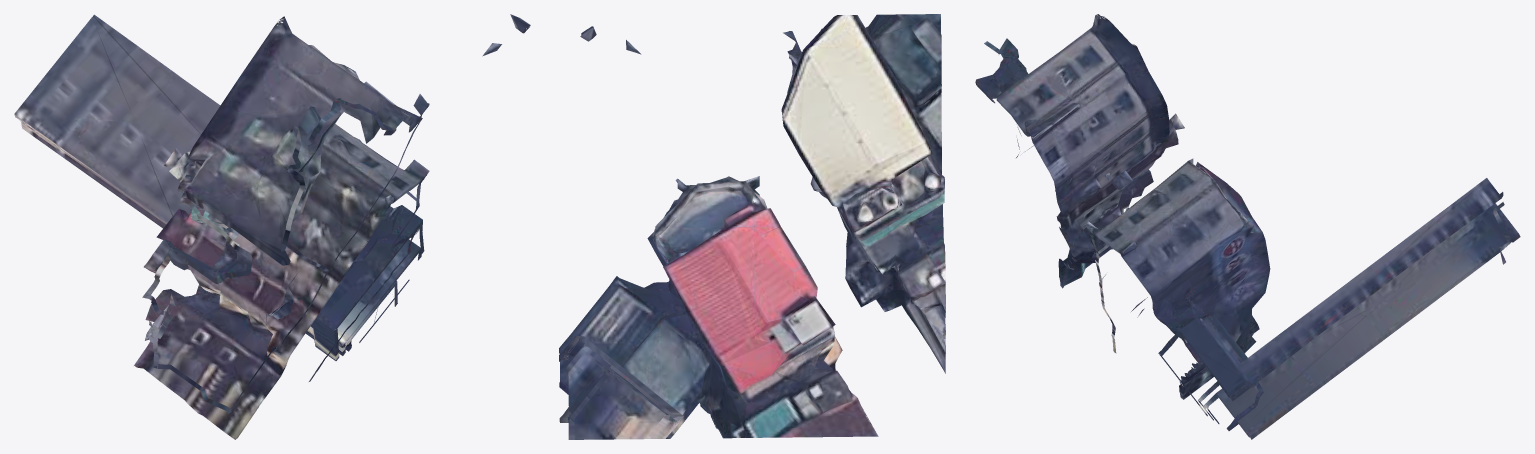
3 renders of one model, left to right at view 1: azimuth 30°, elevation 25°; view 2: azimuth 150°, elevation 25°; view 3: azimuth 270°, elevation 25°, orthographic. The views are drawn at different scales.
Bounding box in the file's own units: 38.88 × 40.62 × 57.11.
Materials: 1 (1 with a texture image).
